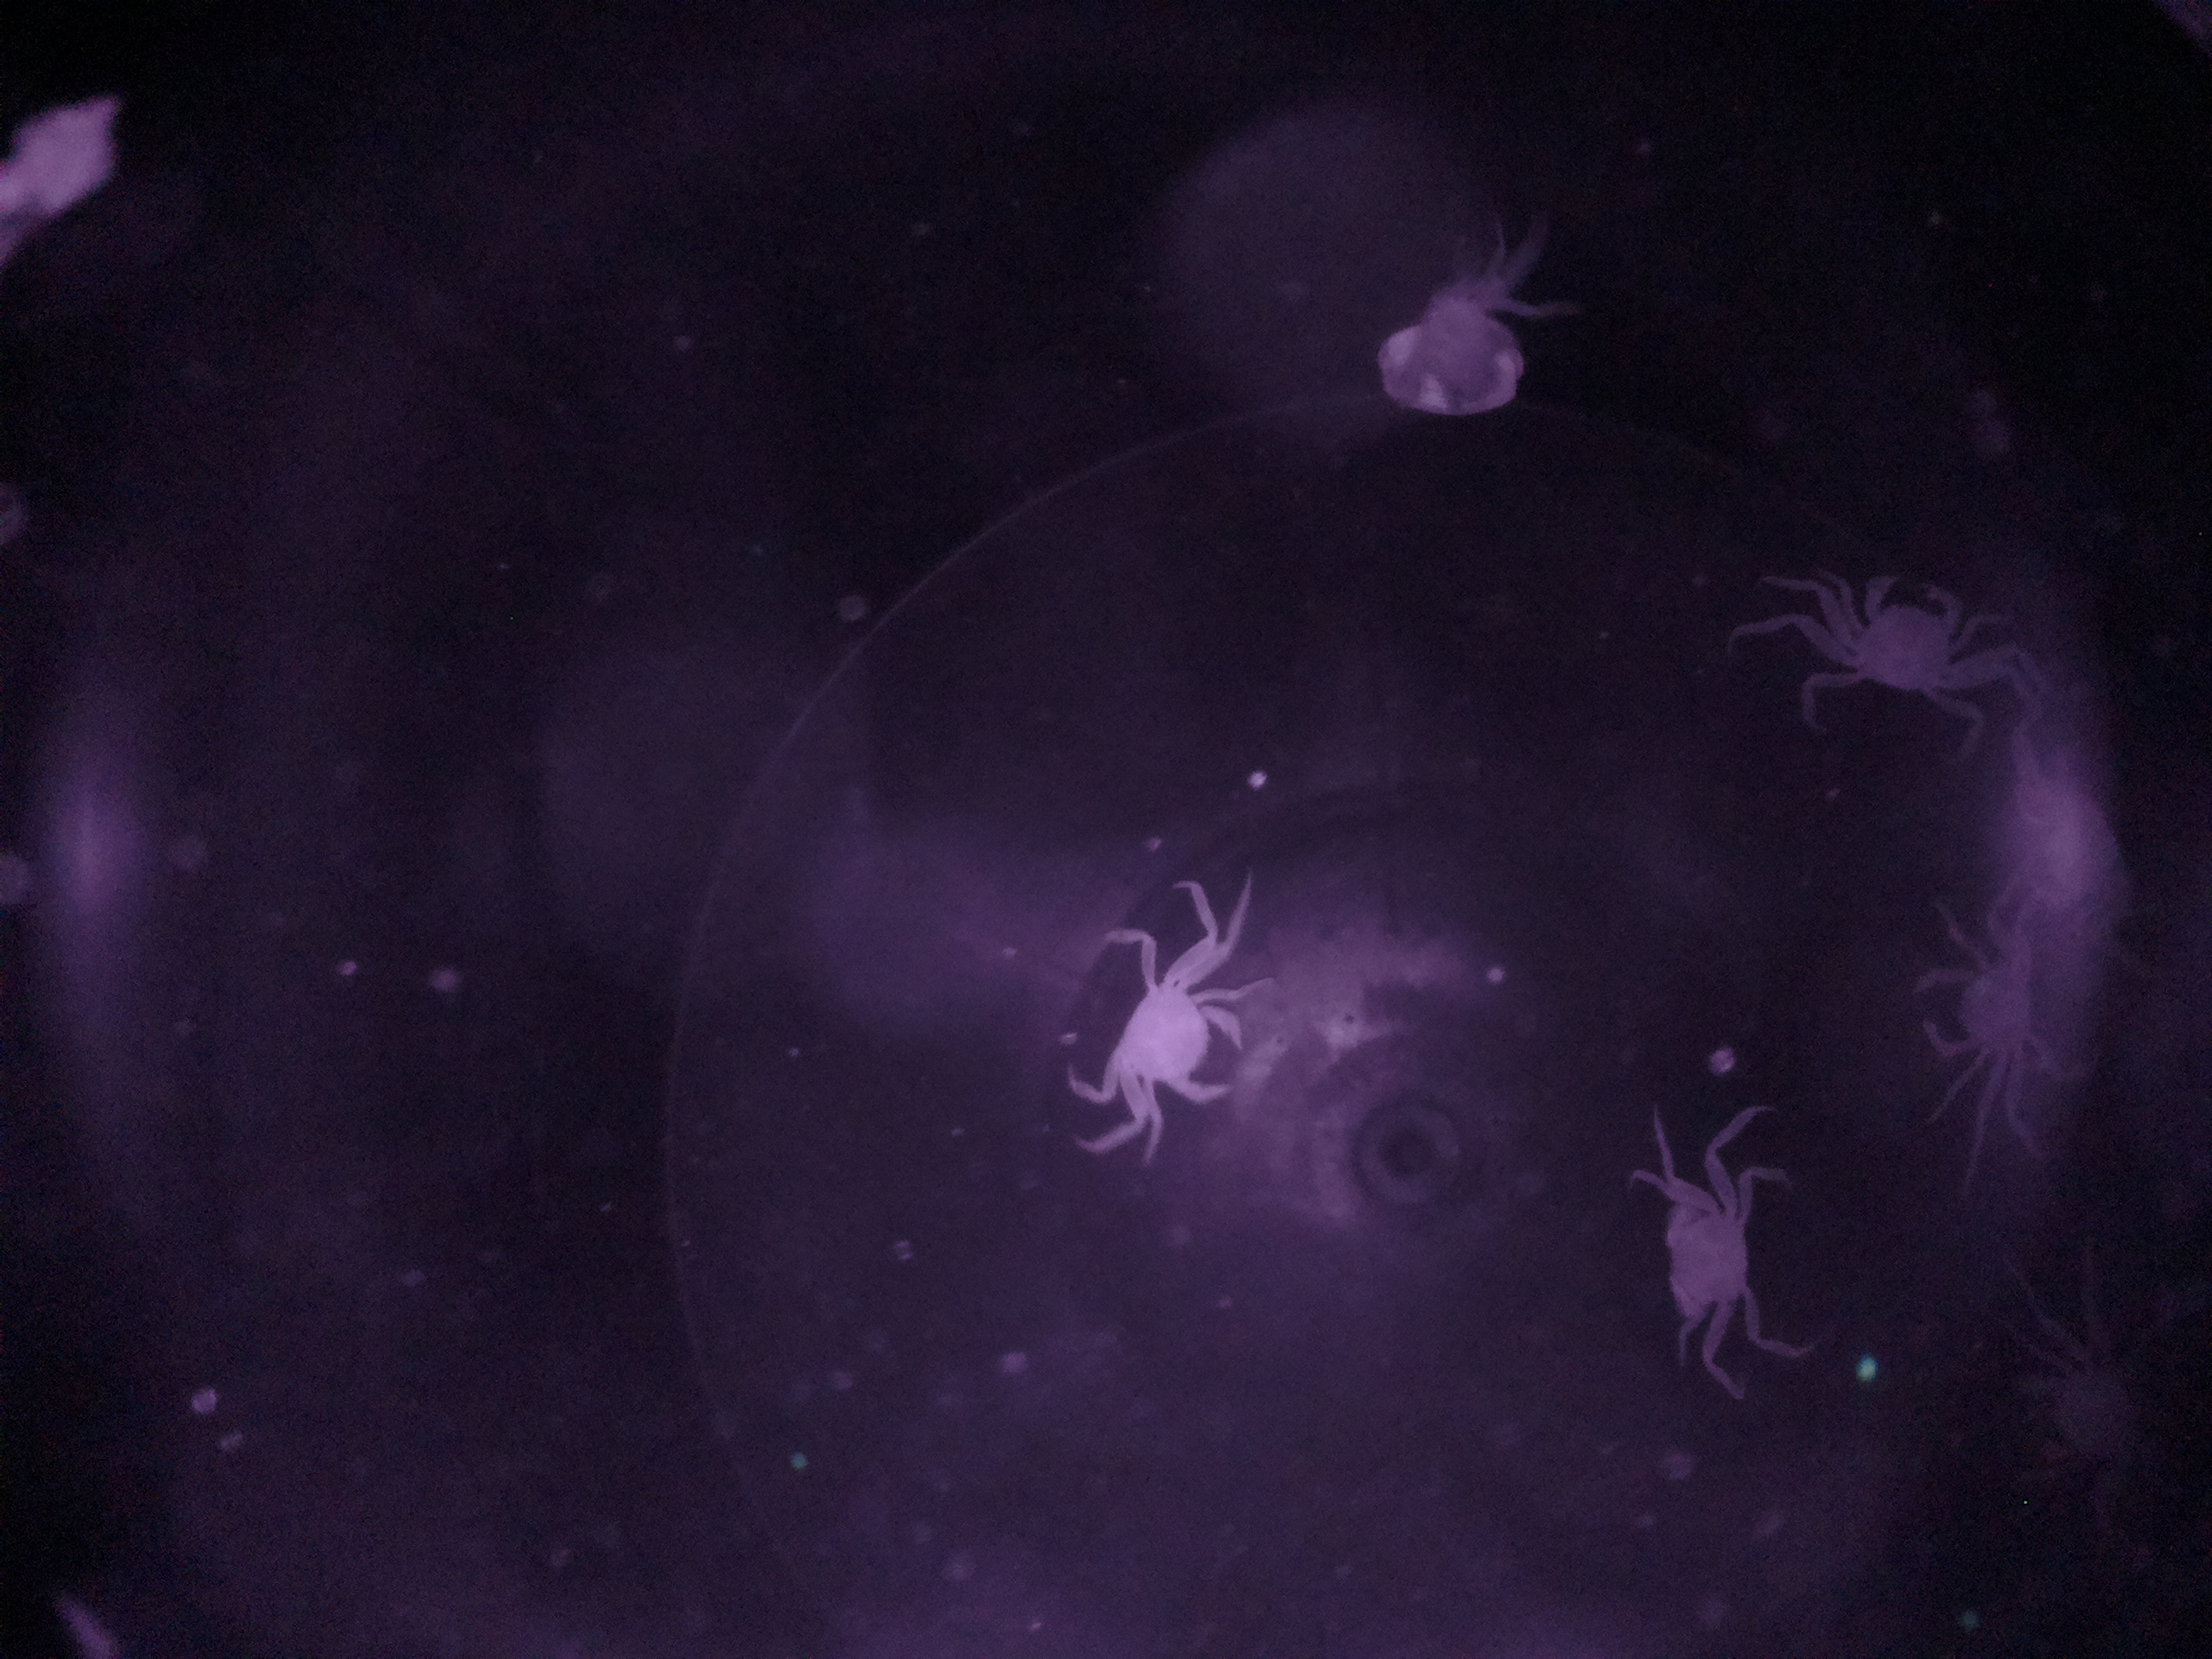Crab: (1092, 899, 1268, 1152), (1818, 556, 1996, 728), (1634, 1161, 1768, 1359)
